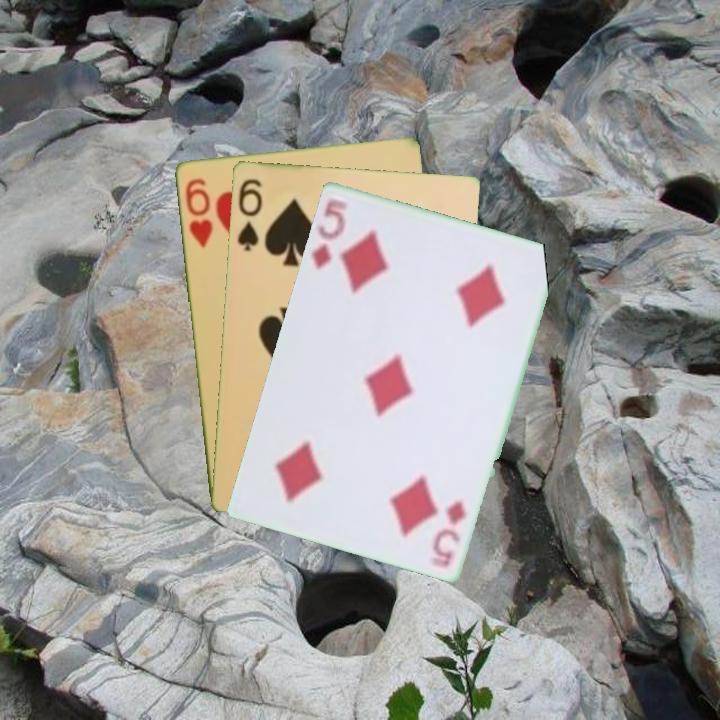5d: (308, 194, 350, 272), (431, 496, 469, 570)
6h: (181, 174, 215, 250)
6s: (234, 175, 265, 253)
